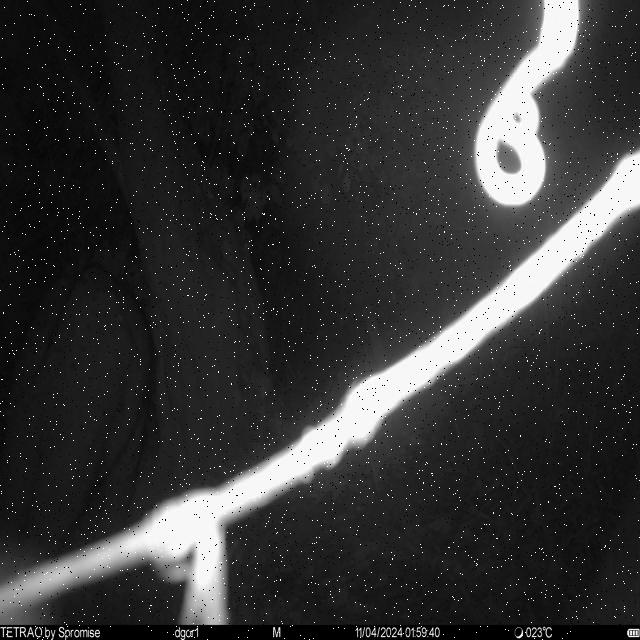calf: (2, 263, 160, 582)
